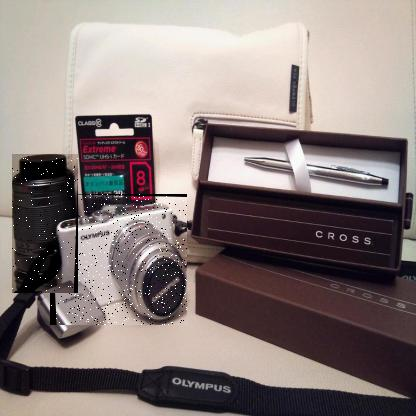Camera: (51, 195, 189, 327), (13, 156, 80, 296)
